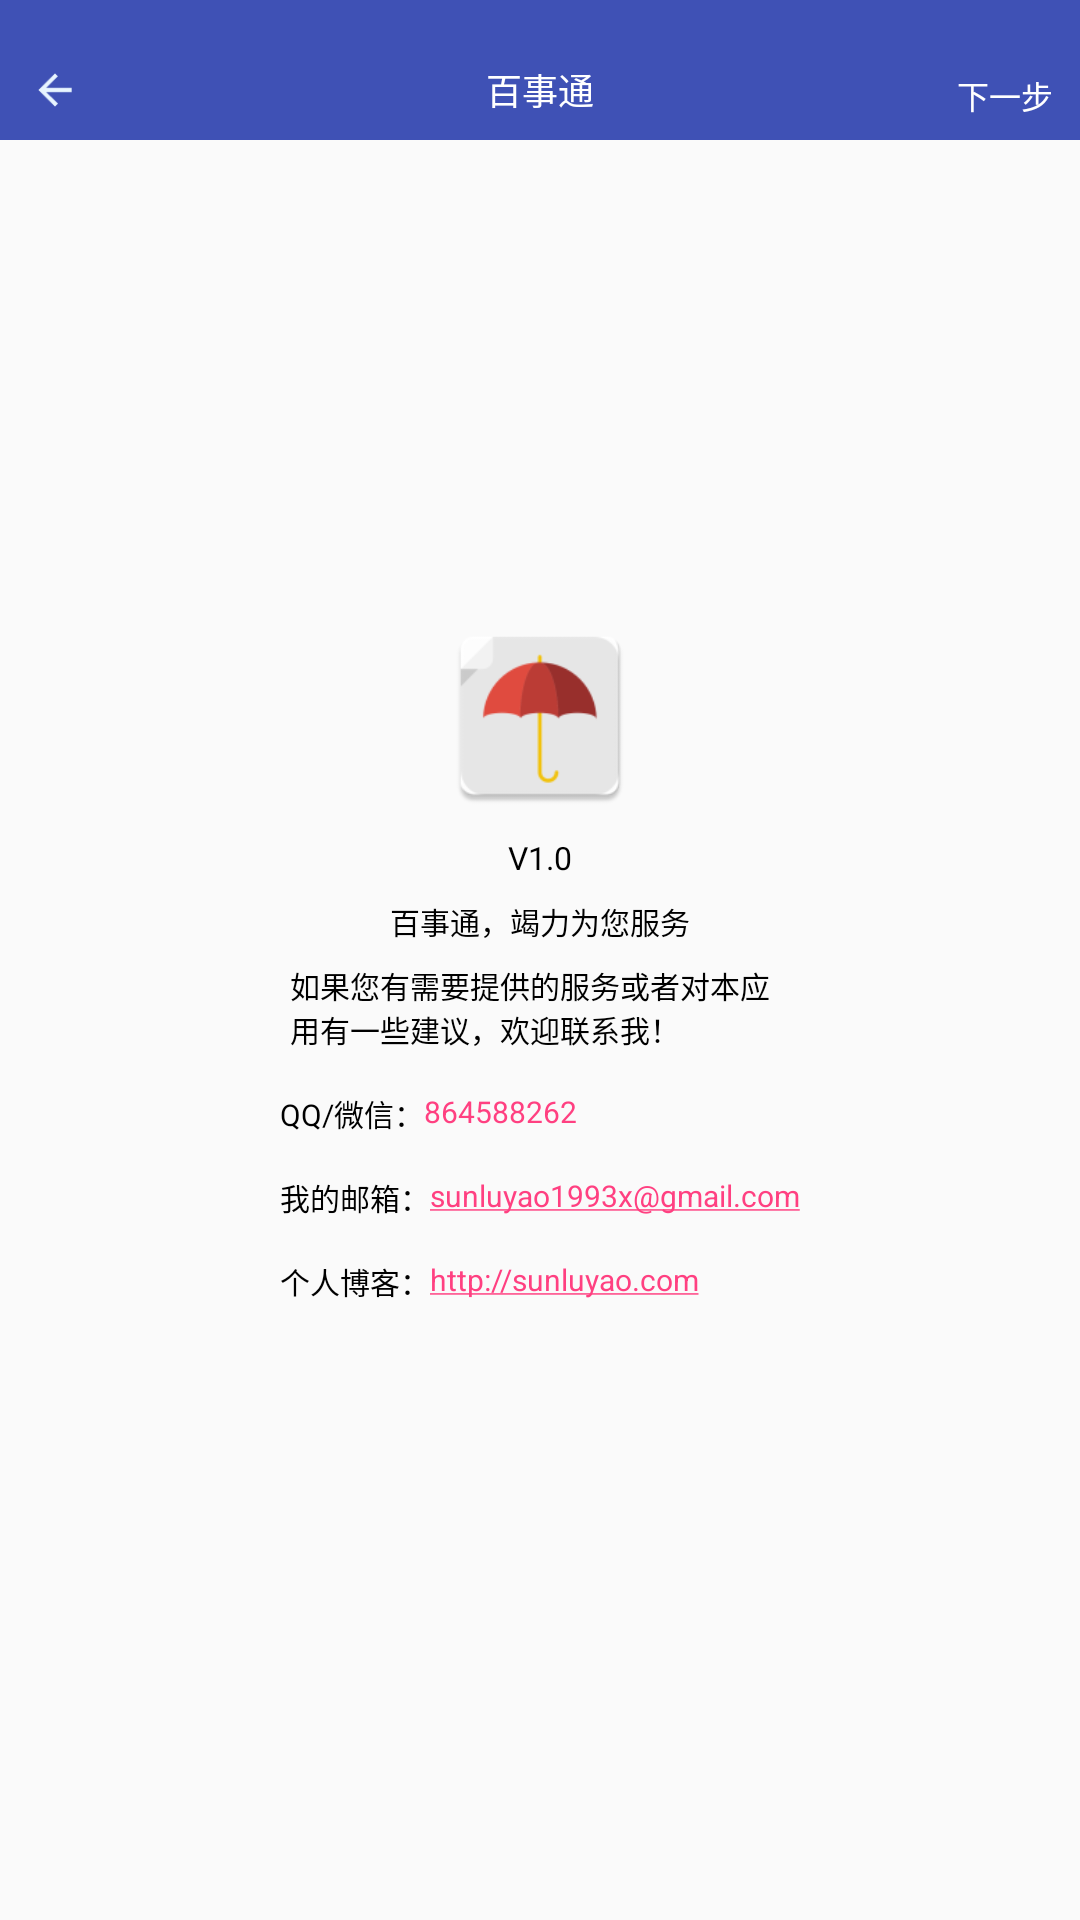

Point at icon controls on the screen. Image size 1080×1920, points as [x,y].
back: [55,90]
